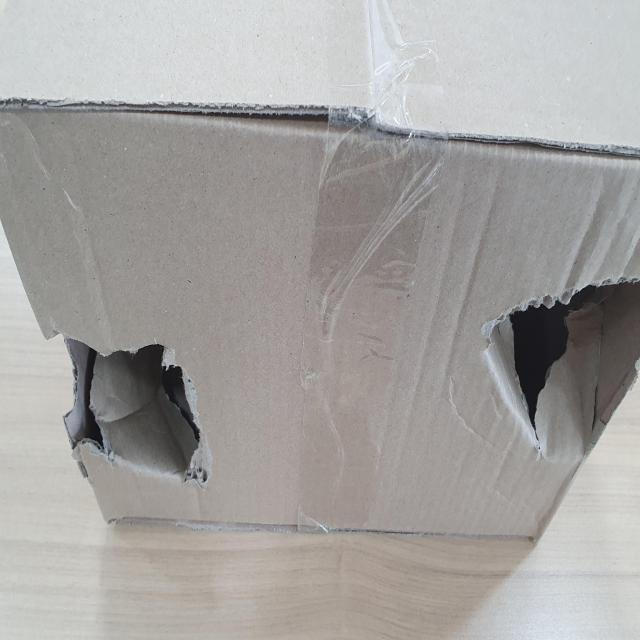damaged: (481, 237, 640, 462), (49, 303, 214, 519)
